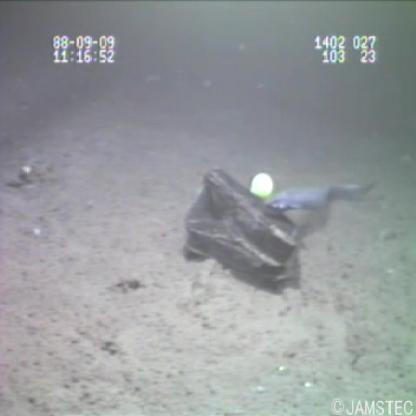Bio: (262, 174, 380, 218)
Rác: (178, 160, 300, 286)
